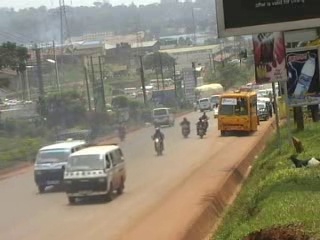Car: (212, 103, 220, 118)
Motorcycle: (149, 125, 168, 158), (177, 116, 193, 138), (116, 119, 129, 143), (198, 109, 210, 129), (196, 116, 206, 139)
